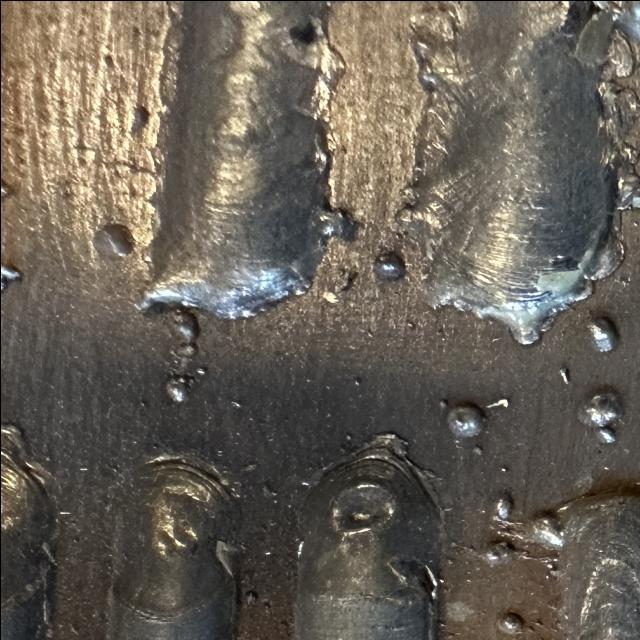Excess Reinforcement: (487, 287, 573, 344), (410, 0, 463, 92), (573, 1, 640, 66), (393, 162, 435, 259), (420, 256, 485, 318), (0, 422, 53, 489), (345, 432, 420, 475), (310, 36, 345, 122), (597, 80, 640, 139), (497, 512, 563, 549), (583, 228, 623, 279), (600, 29, 635, 80), (602, 134, 640, 175), (317, 205, 358, 241), (320, 116, 335, 204), (613, 161, 640, 208), (215, 300, 280, 319), (137, 279, 177, 308), (592, 0, 624, 19), (292, 277, 312, 295)
Spatters: (577, 391, 623, 442), (168, 308, 198, 366), (92, 222, 133, 256), (447, 404, 485, 436), (587, 316, 617, 351), (372, 251, 405, 282), (482, 541, 515, 566), (163, 375, 190, 402), (497, 612, 523, 634), (130, 104, 148, 135), (0, 264, 20, 290), (493, 492, 512, 519), (0, 179, 12, 200), (485, 398, 508, 408), (245, 590, 258, 604), (558, 366, 568, 384), (545, 562, 557, 574), (437, 399, 448, 410), (472, 445, 483, 455), (195, 366, 207, 374), (405, 320, 415, 329), (297, 541, 303, 556), (70, 624, 78, 634), (230, 400, 242, 406), (262, 601, 270, 609), (353, 377, 360, 385), (345, 432, 352, 440), (500, 465, 508, 471), (132, 438, 138, 444), (263, 551, 270, 555)
